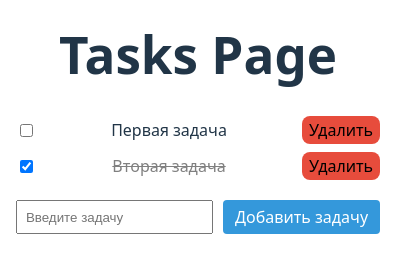
Test case: Tasks page actions › adds a new task when typing in input and clicking Add task
// вводим текст в поле input
In the field with placeholder "Введите задачу": (115, 217) [16,200,213,234], type "Моя новая задача"
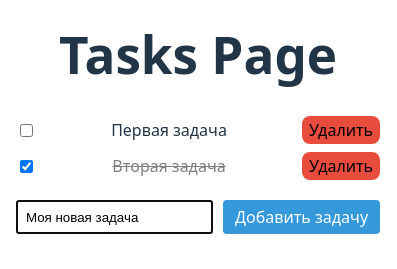
// кликаем кнопку добавить
Click the button with id "addTask": (302, 217) [223,200,380,234]
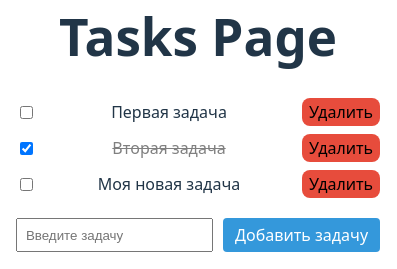
Expected: the text "Моя новая задача" is shown, [98,172,240,196]
